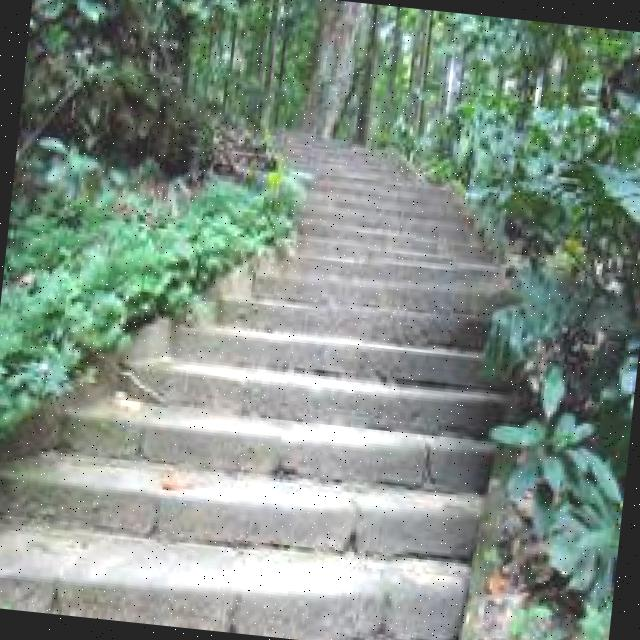stairs: (0, 27, 615, 640)
